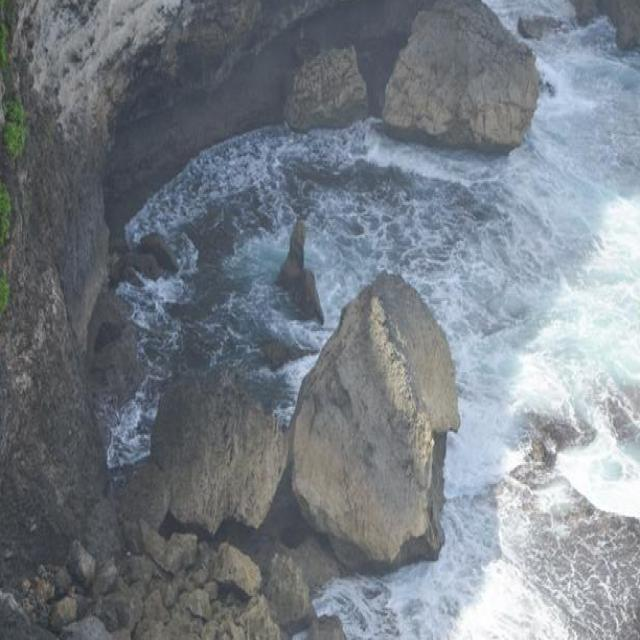reef: (144, 284, 454, 606)
